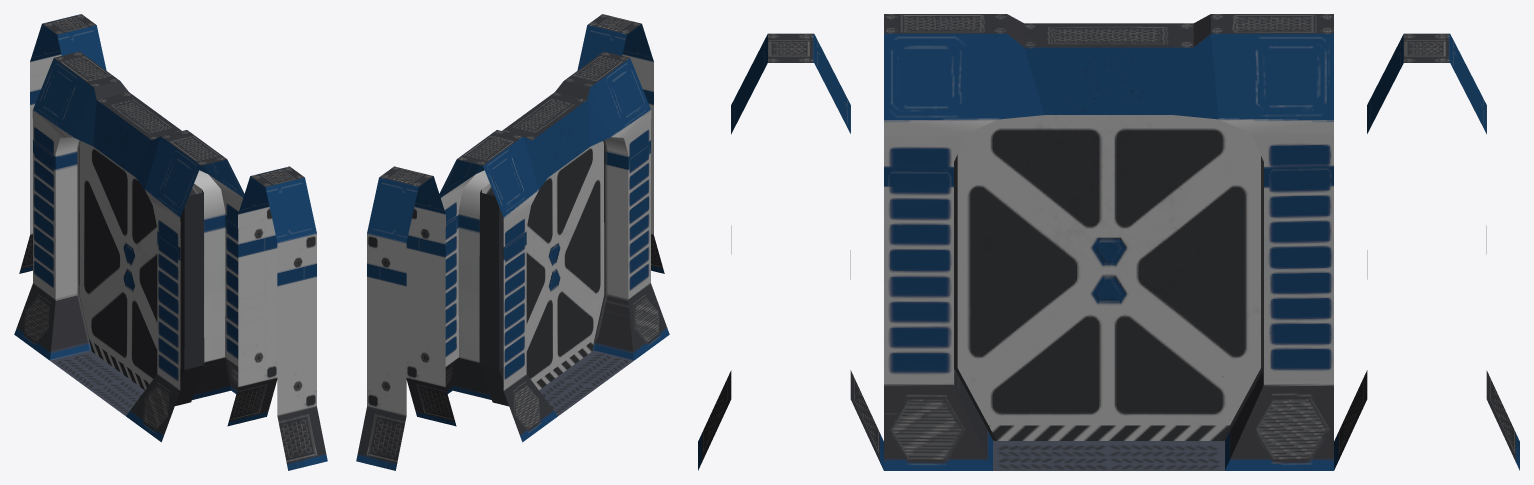
File: Doorway_Sci_Fil2.fbx
The picture shows the model from 3 angles, left to right: view 1: azimuth 30°, elevation 25°; view 2: azimuth 150°, elevation 25°; view 3: azimuth 270°, elevation 25°; orthographic projection. The views are drawn at different scales.
Parts seen in each view (by area): view 1: Sci_Fil_Doorway2, Sci_Fi_Door1; view 2: Sci_Fil_Doorway2, Sci_Fi_Door1; view 3: Sci_Fil_Doorway2, Sci_Fi_Door1.
Part boxes in pixels (x1=…): Sci_Fil_Doorway2: x1=14, y1=14, x2=327, y2=470; Sci_Fi_Door1: x1=79, y1=141, x2=204, y2=405; Sci_Fil_Doorway2: x1=356, y1=14, x2=669, y2=470; Sci_Fi_Door1: x1=479, y1=141, x2=604, y2=406; Sci_Fil_Doorway2: x1=698, y1=14, x2=1519, y2=470; Sci_Fi_Door1: x1=954, y1=115, x2=1263, y2=440.
Bounding box in the file's own units: 163 × 395 × 721.
1 material, 1 textured.
